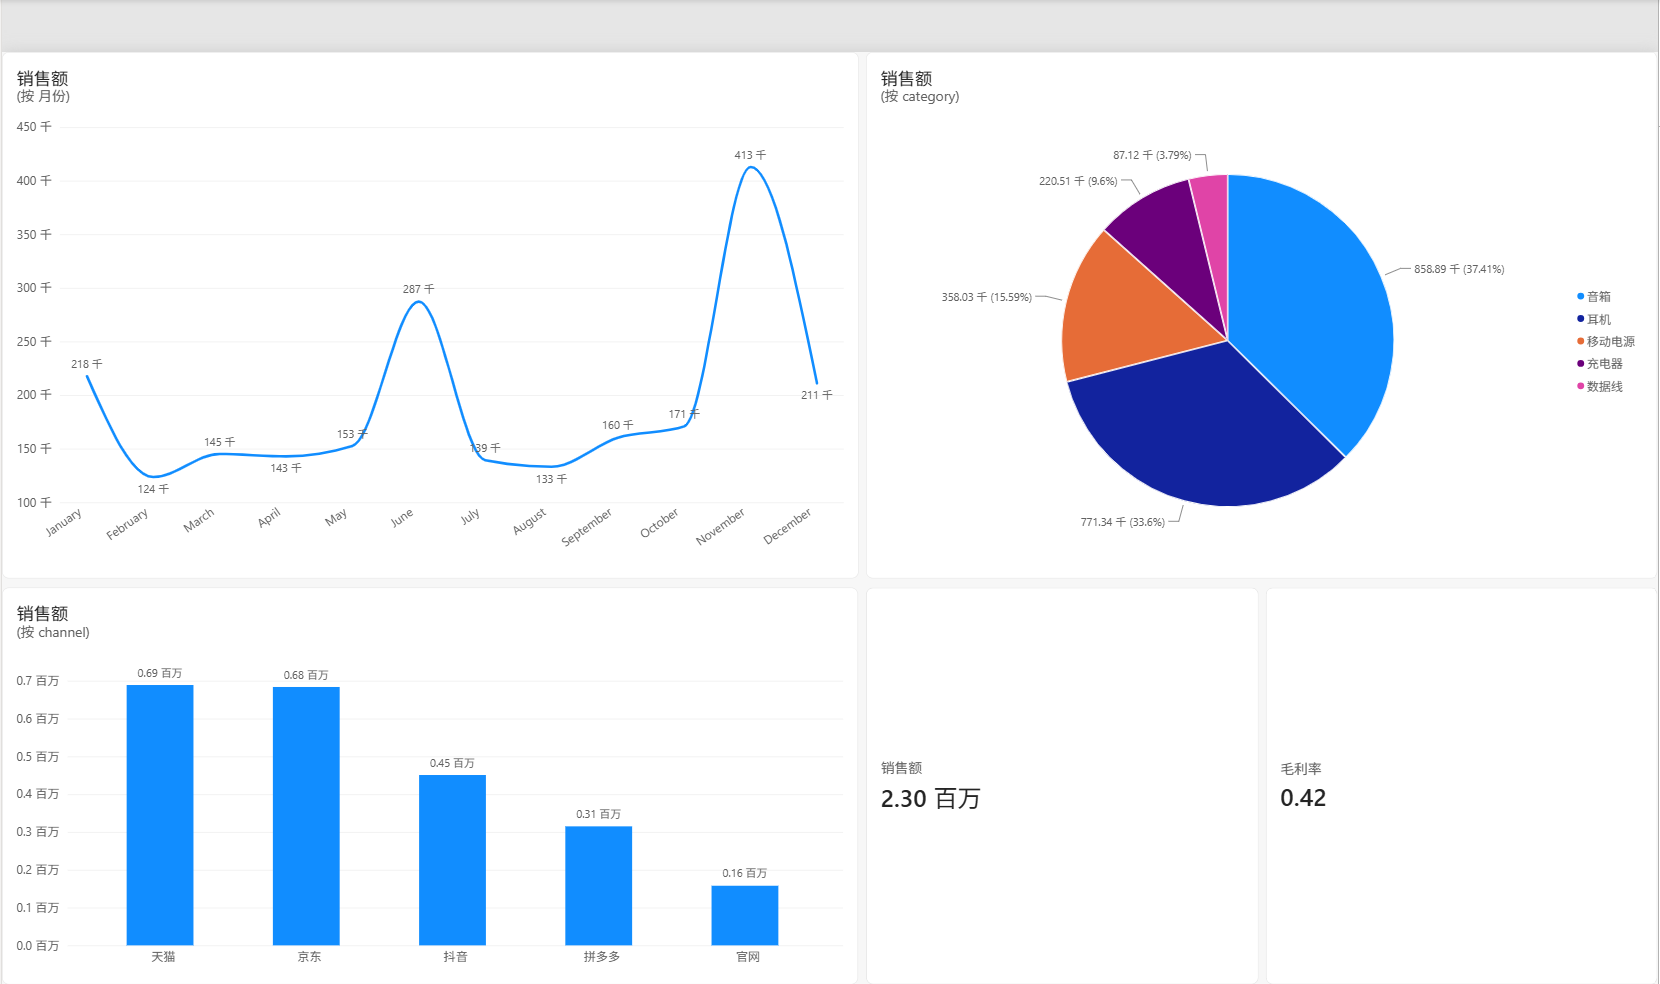

What the dashboard file says about the page in this screenshot:
{"tool":"powerbi","page":{"name":"第 1 页","canvas":[1920,1080],"ordinal":0},"visuals":[{"type":"lineChart","fields":{"Category":["orders.order_date.Variation.日期层次结构.月份"],"Y":["orders.销售额"]},"box":[0,0,992.5,610.1],"z":1},{"type":"columnChart","fields":{"Category":["orders.channel"],"Y":["orders.销售额"]},"box":[0,620,992,460],"z":2},{"type":"pieChart","fields":{"Category":["orders.category"],"Y":["orders.销售额"]},"box":[1002,0,918,610],"z":3},{"type":"cardVisual","fields":{"Data":["orders.销售额","orders.毛利率"]},"box":[1002,620,918,460],"z":4}]}

Visuals, with their boxes on the page's 1920x1080 design canvas (x1, y1, x2, y2). These are canvas units, not pixel positions in the 1660x984 screenshot, which may show the page scaled, cropped or inside an application window:
lineChart - orders.order_date.Variation.日期层次结构.月份 x orders.销售额: <box>0,0,992,610</box>
columnChart - orders.channel x orders.销售额: <box>0,620,992,1080</box>
pieChart - orders.category x orders.销售额: <box>1002,0,1920,610</box>
cardVisual - orders.销售额 x orders.毛利率: <box>1002,620,1920,1080</box>
